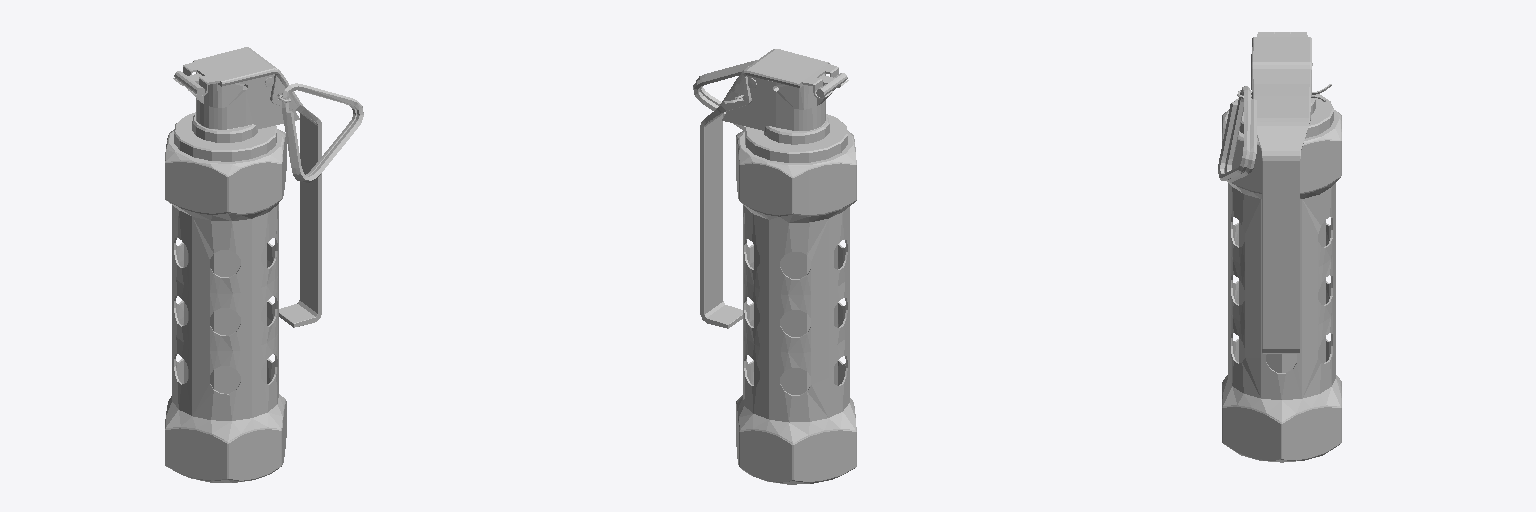
Rendered from Aleksandr_Flashbang.obj.
The picture shows the model from 3 angles: view 1: azimuth 30°, elevation 25°; view 2: azimuth 150°, elevation 25°; view 3: azimuth 270°, elevation 25°; orthographic projection.
Visible parts, largest first — view 1: Flashbang, Pin; view 2: Flashbang, Pin; view 3: Flashbang, Pin.
Boxes of the visible parts, x1,y1,x2,y2 form: Flashbang: [165, 47, 321, 482]; Pin: [277, 83, 363, 182]; Flashbang: [700, 49, 856, 484]; Pin: [693, 60, 756, 130]; Flashbang: [1222, 32, 1341, 462]; Pin: [1218, 84, 1331, 182].
Size of the model in its own units: 5.67 by 11.83 by 3.39.